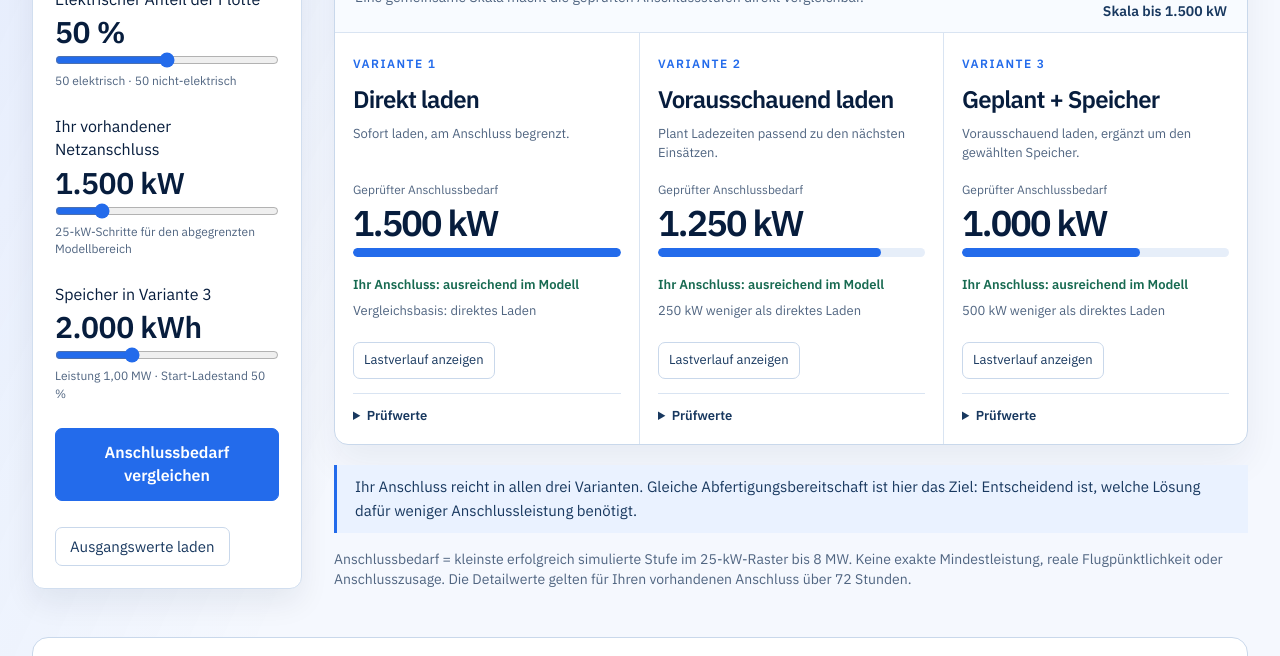
Test: compares three solutions with a fixed fleet, suppresses stale results and recalculates
(page scrolled)
Expected: the number of sliders is 3, [55,52,279,68]; [55,202,279,218]; [55,347,279,363]
Expected: the heading "Direkt laden" is shown, [353,83,479,115]
Click the button "Lastverlauf anzeigen" below "250 kW weniger als direktes Laden" at (729,360), box [658,342,800,379]
(page scrolled)
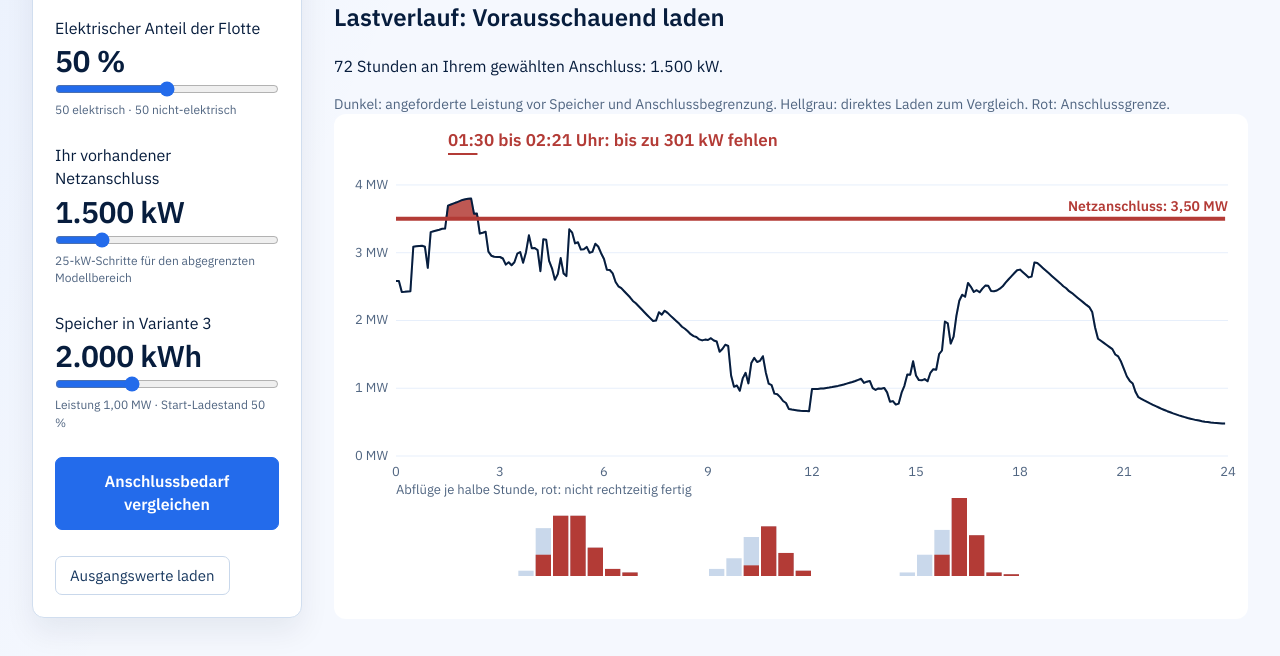
Expected: the heading "Lastverlauf: Vorausschauend laden" is shown, [334,1,725,33]
Set the slider named "Elektroanteil" to "70" at (209,89), box [55,81,279,97]
(page scrolled)
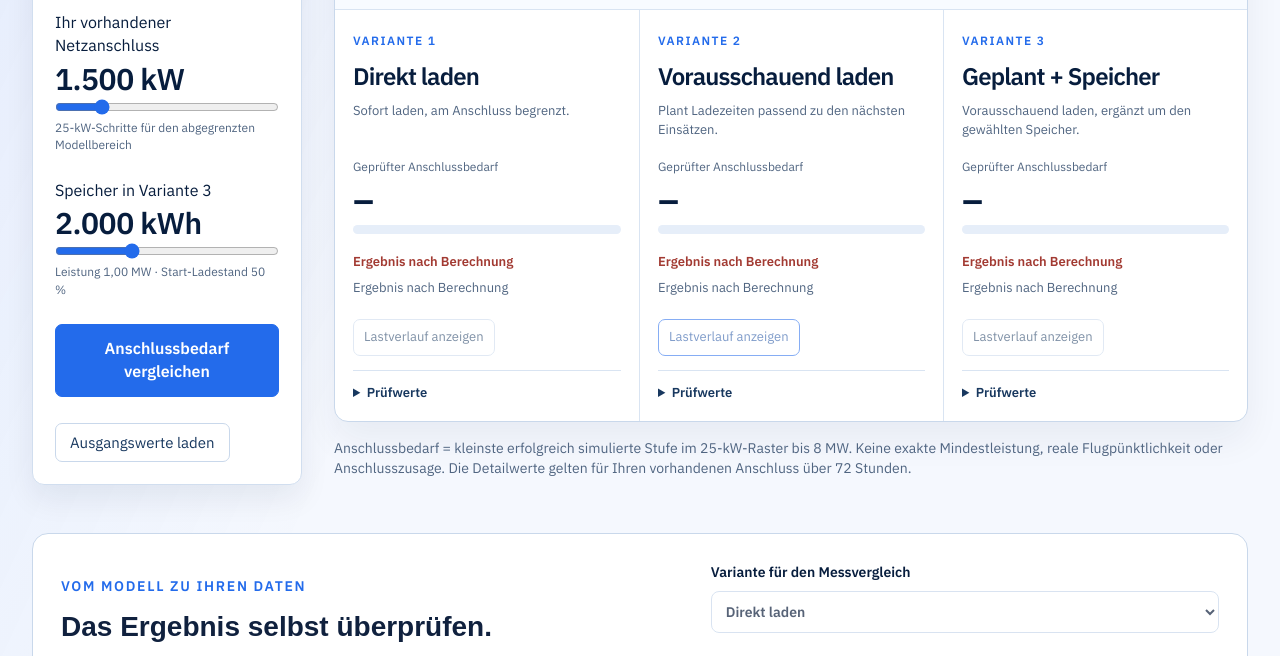
Expected: the heading "Lastverlauf: Vorausschauend laden" is gone
Click the button "Anschlussbedarf vergleichen" at (167,360), box [55,324,279,397]
(page scrolled)
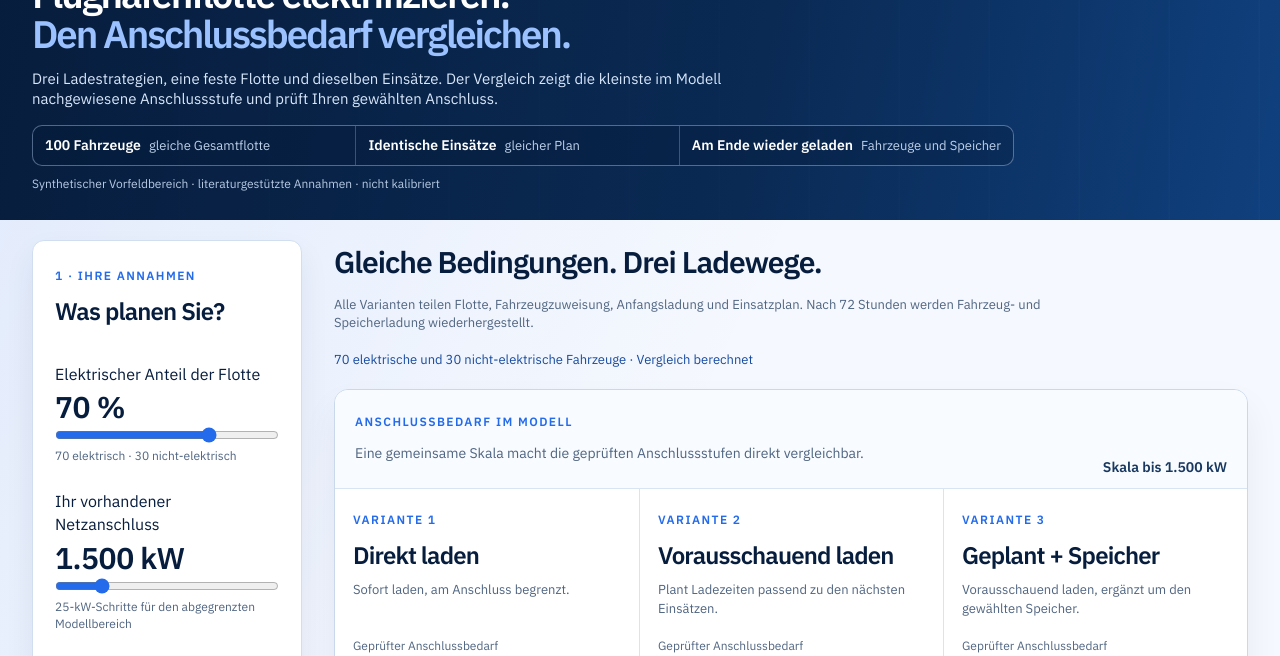
Expected: the text "70 elektrische und 30 nicht-elektrische Fahrzeuge · Vergleich berechnet" is shown, [334,351,753,368]
